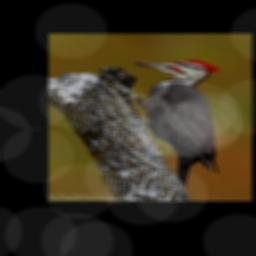Woodpecker: (115, 60, 221, 190)
